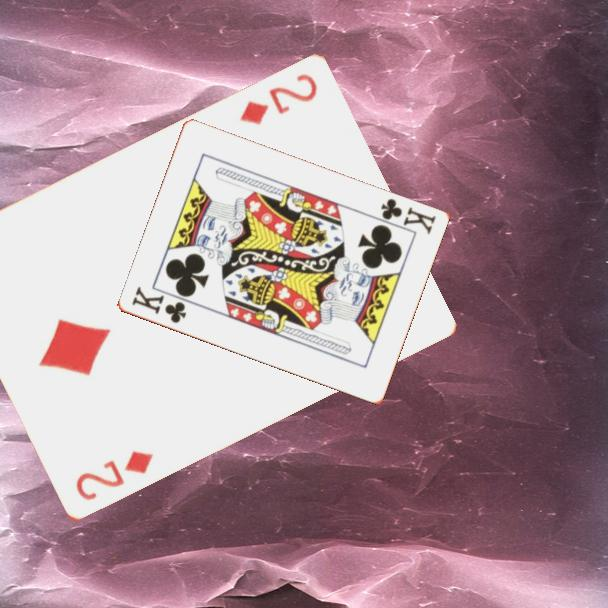c13: (376, 195, 439, 237), (128, 283, 189, 326)
d02: (236, 70, 320, 129), (72, 448, 156, 504)
